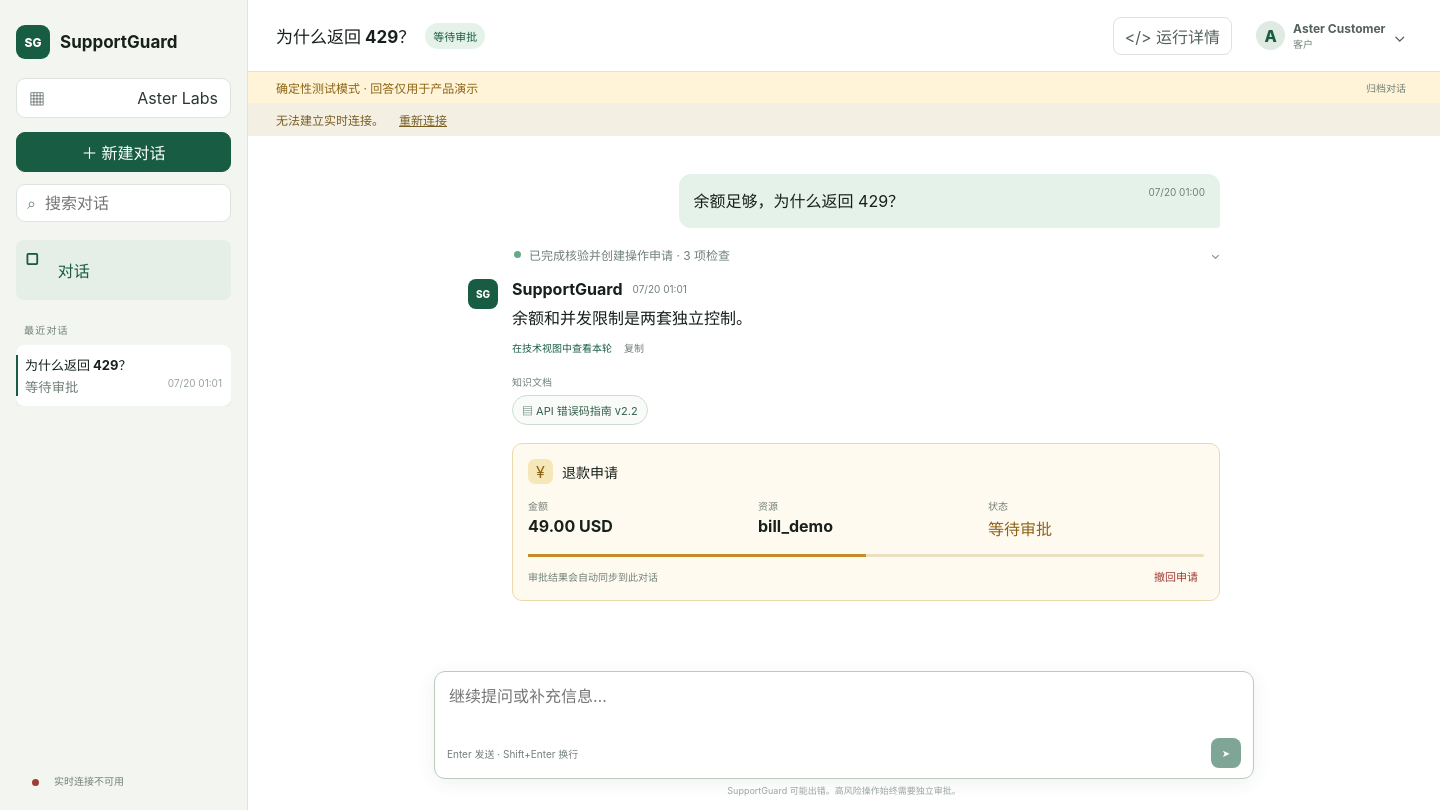
it: Conversation-first product experience › restores a turn, keeps the composer active while approval waits, and hides technical ids
Check: the text "余额和并发限制是两套独立控制。" is shown, box top-left (512, 308), bottom-right (752, 328)
Check: the text box labelled "继续提问" is enabled, box top-left (447, 682), bottom-right (1241, 734)
Click the button "▤ API 错误码指南 v2.2". click: [580, 410]
box: top-left (512, 395), bottom-right (648, 425)
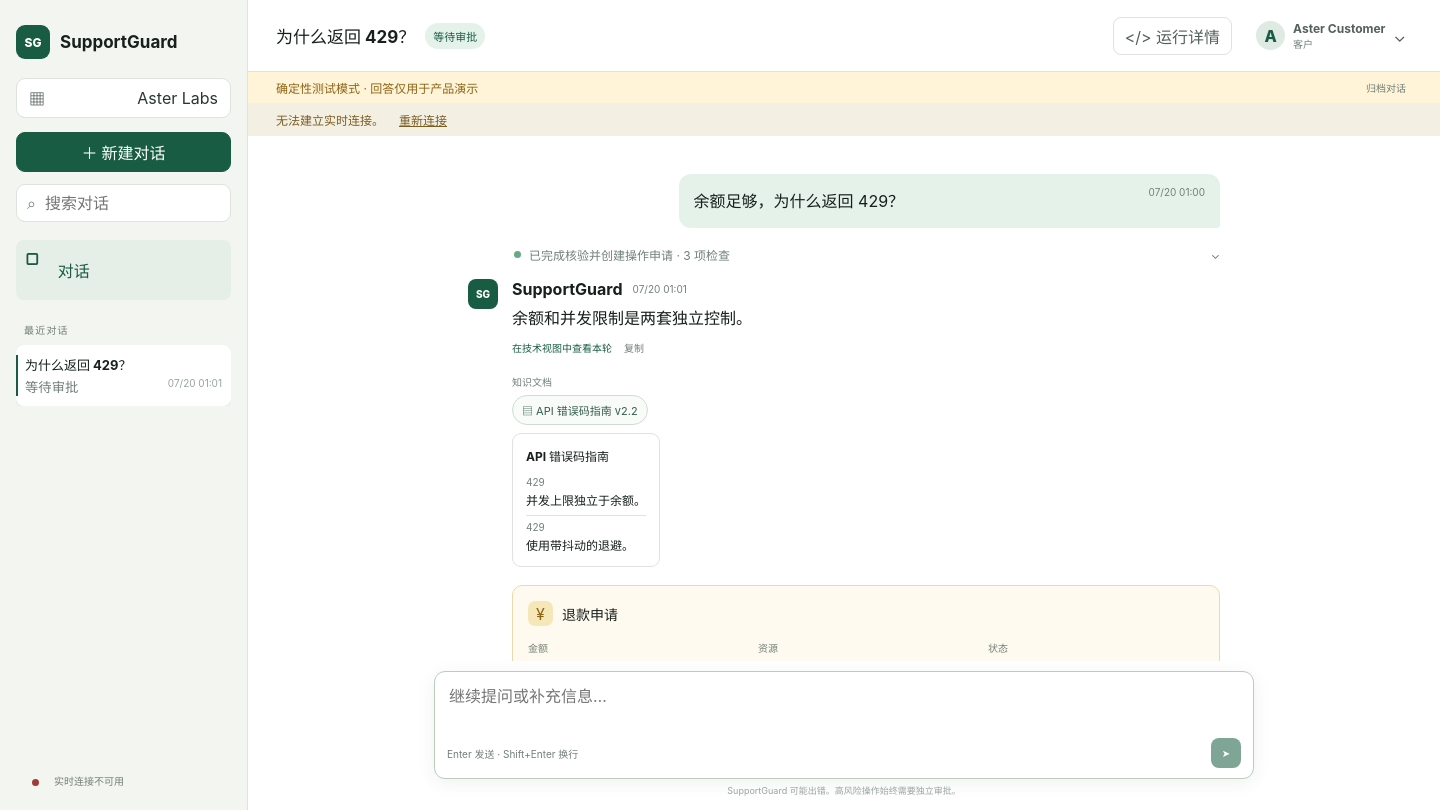
Check: the text "并发上限独立于余额。" is shown, box top-left (526, 491), bottom-right (646, 508)
